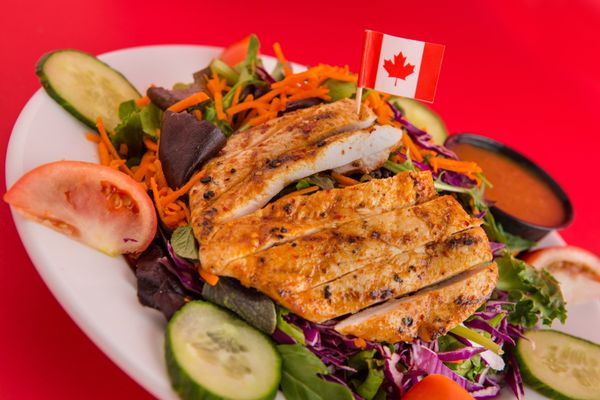soup: (184, 88, 504, 353)
